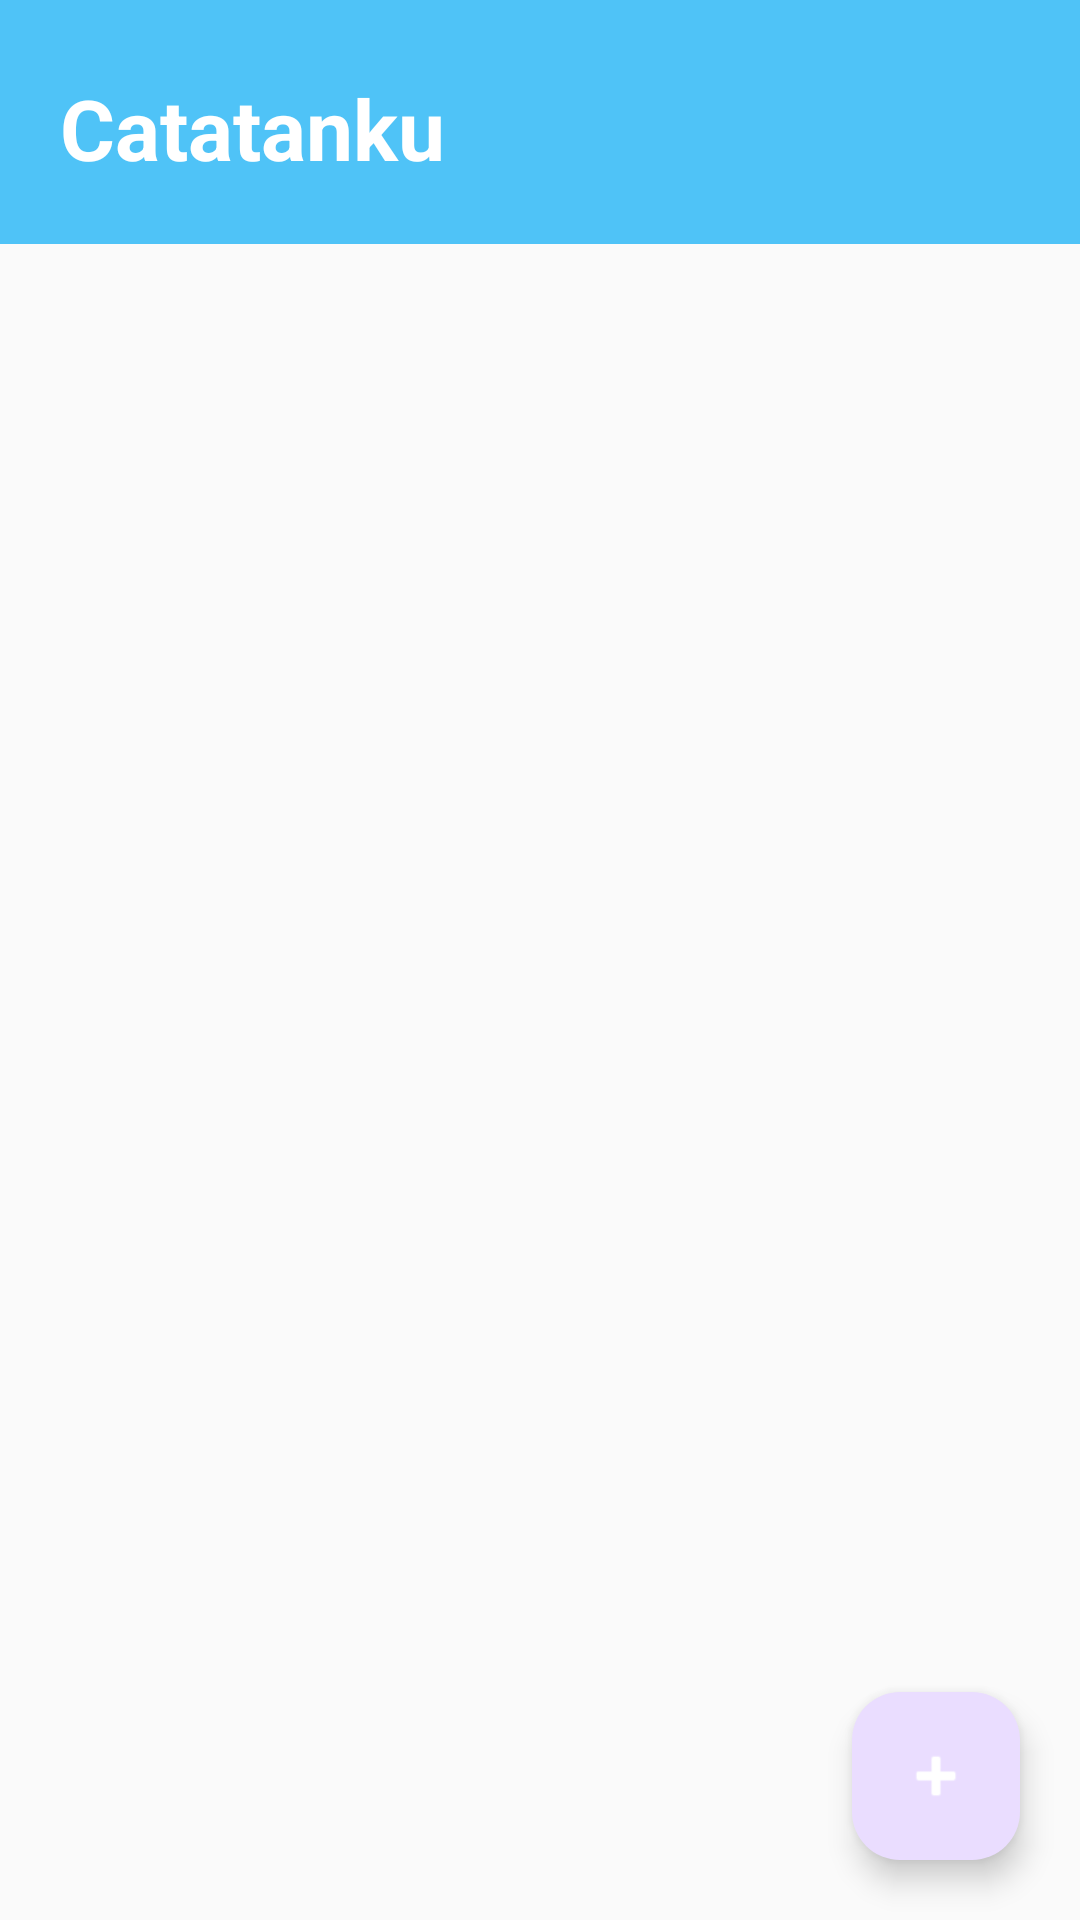

Where to tap for icons on this 1080×1920 app screen, as [x,y]:
Tambah Catatan: [936,1776]
